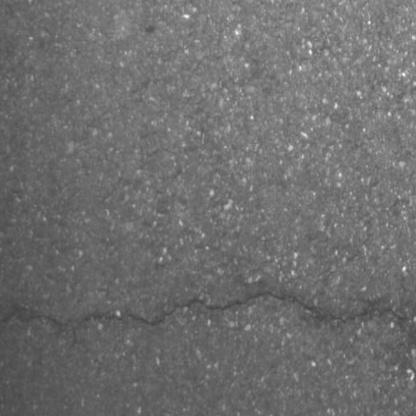Cracks: (77, 287, 416, 344), (0, 303, 72, 334)
